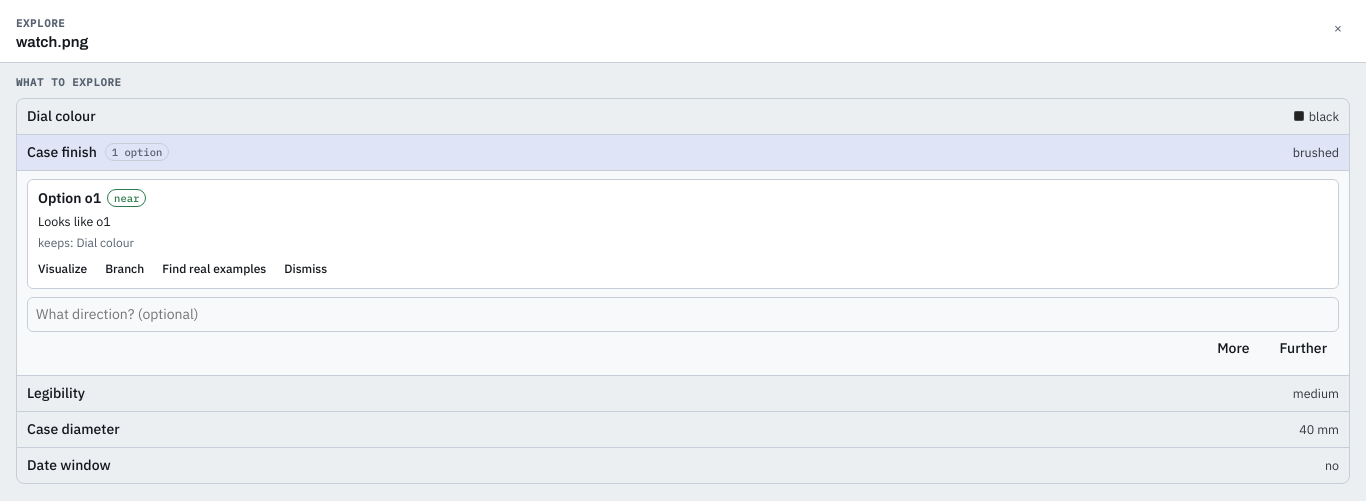
it: ExplorePanel › a visualize already under way (409 VISUALIZE_IN_PROGRESS) keeps the spinner and shows no error
What coordinates should you click on to do the following:
click the button named "Visualize Option o1"
I would click on:
 (63, 269)
Its box is 30,258 -> 95,280.
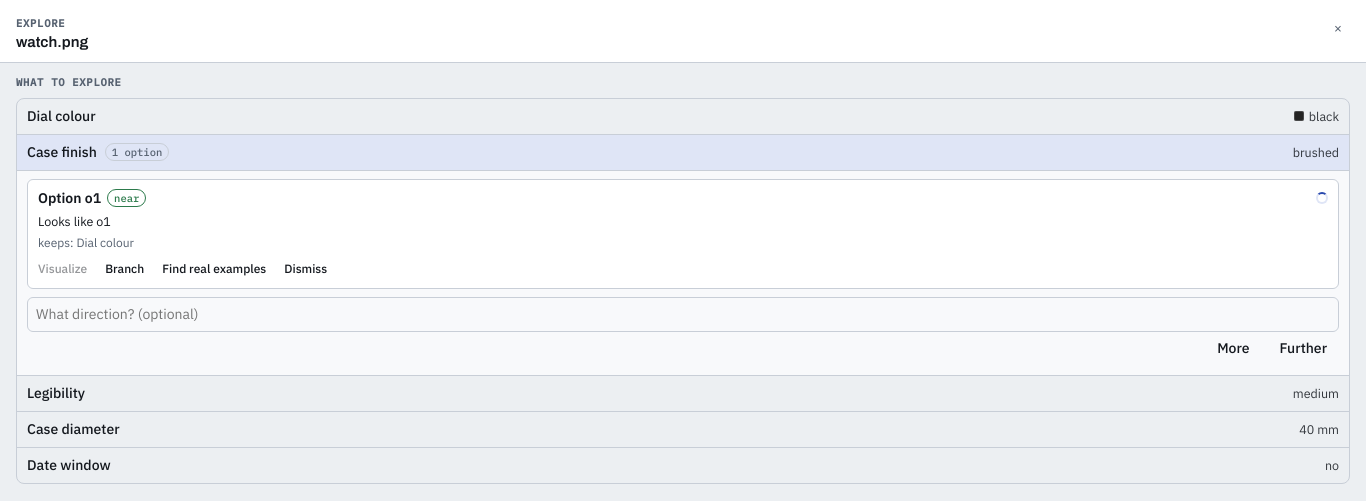
expect the message is not shown: met
expect the message named "Visualizing" is shown: met, box 1316,192 -> 1328,204
